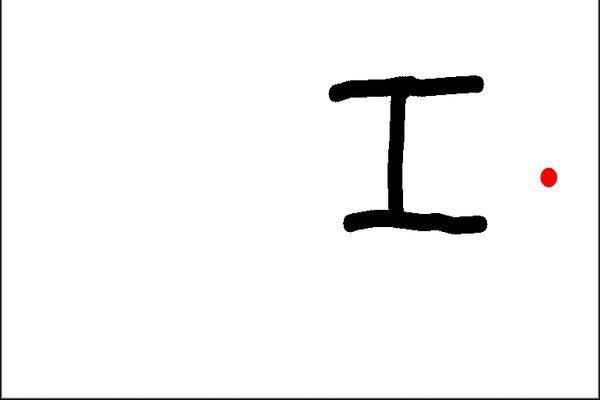i: (321, 71, 495, 243)
